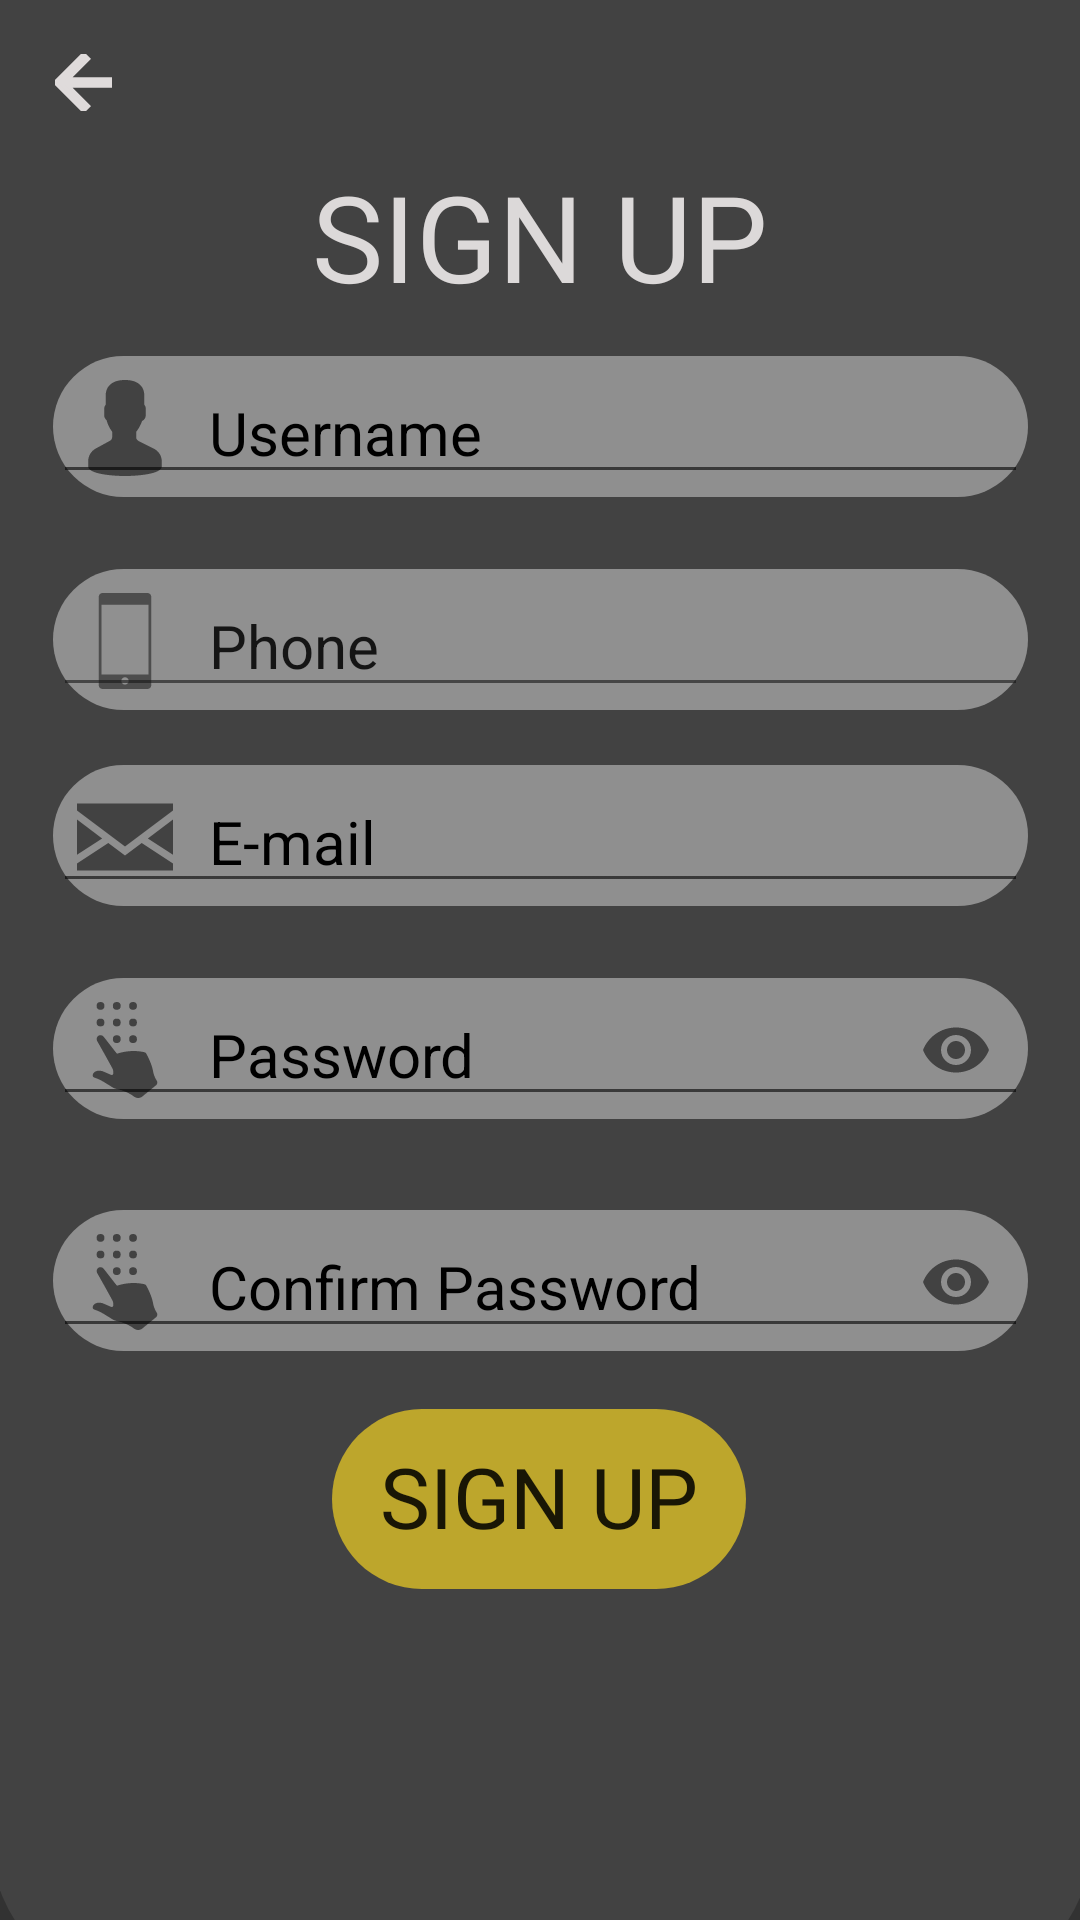

Where to tap for icons on this 1080x1920 app screen, as (x=x, y=y):
back: (x=83, y=82)
